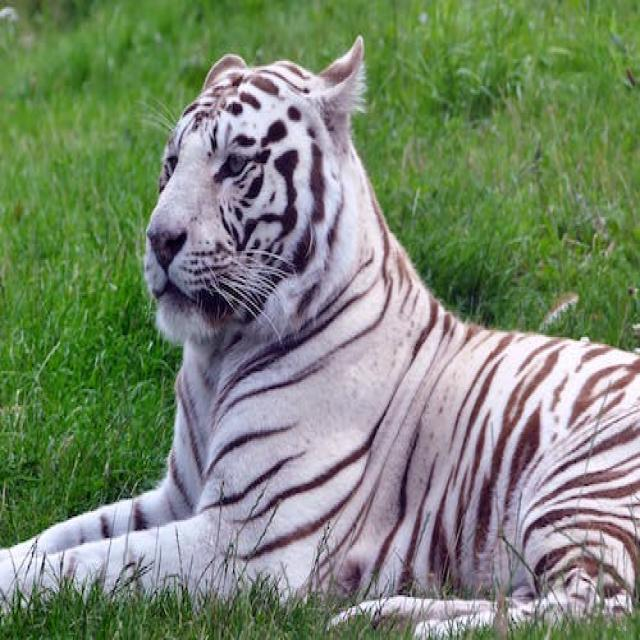not_pig: (0, 32, 639, 638)
